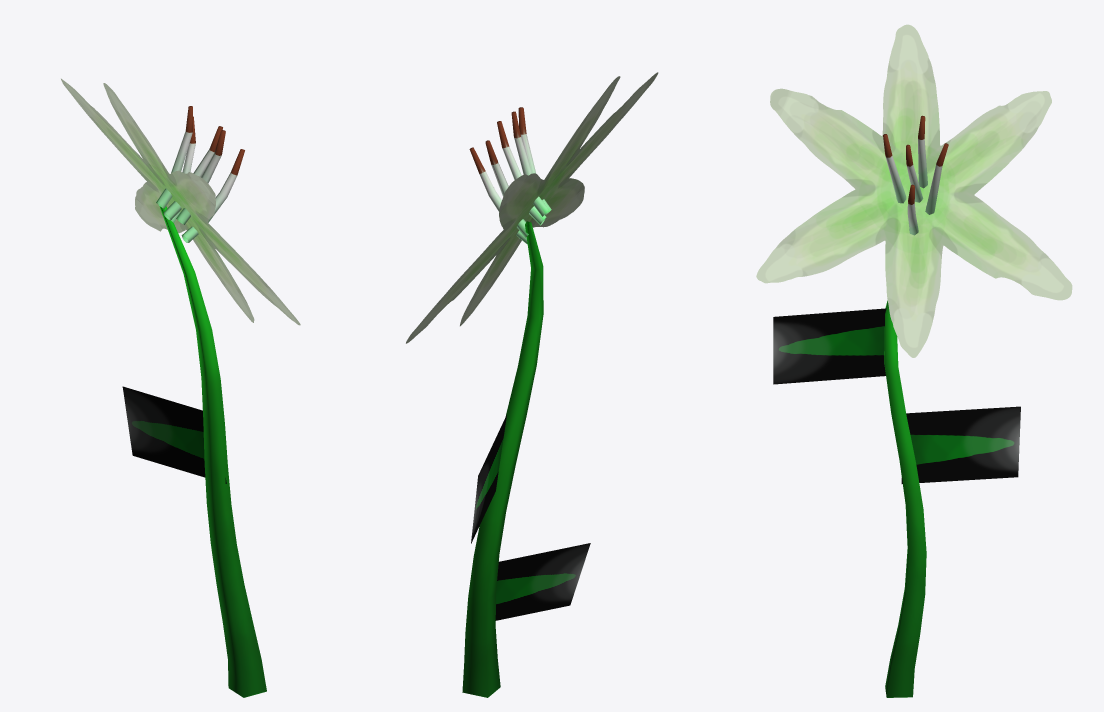
The model's file is lirio.fbx.
3 renders of one model, left to right at view 1: azimuth 30°, elevation 25°; view 2: azimuth 150°, elevation 25°; view 3: azimuth 270°, elevation 25°, orthographic. The views are drawn at different scales.
Parts seen in each view (by area): view 1: NurbsPath.004; view 2: NurbsPath.004; view 3: NurbsPath.004.
Part boxes in pixels (bbox=[...]): NurbsPath.004: bbox=[61, 78, 300, 697]; NurbsPath.004: bbox=[406, 72, 658, 697]; NurbsPath.004: bbox=[756, 24, 1072, 697].
Size of the model in its own units: 51.21 by 195 by 103.
Materials: 4 (4 with a texture image).
